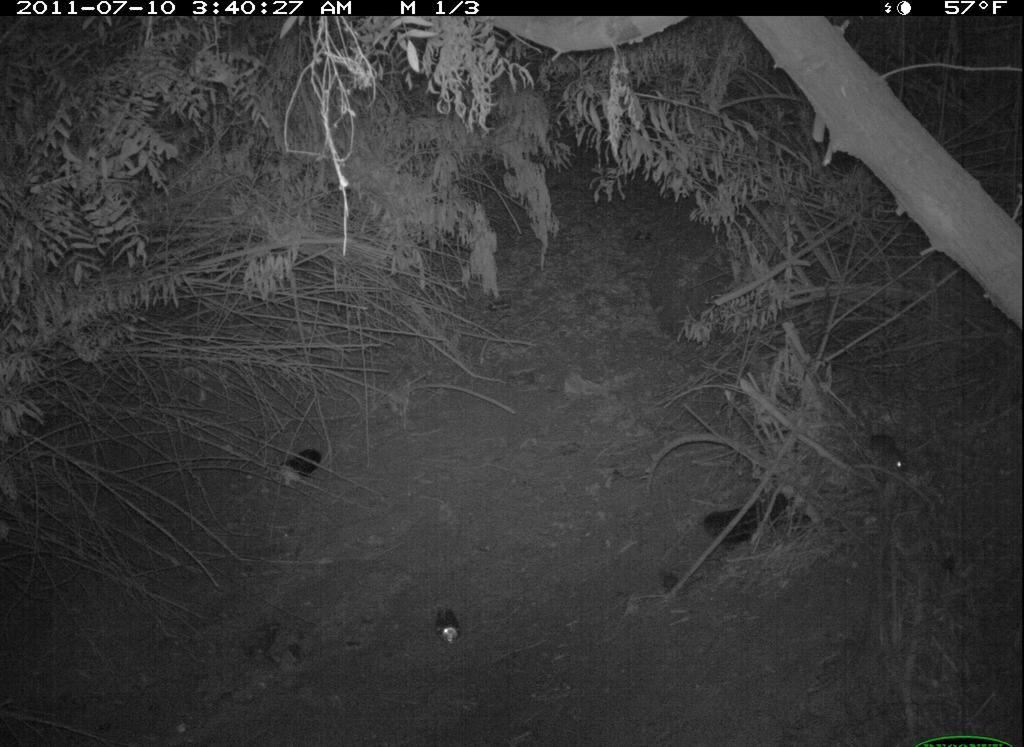rodent: (852, 425, 918, 486)
